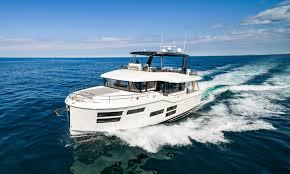Ship: (68, 45, 214, 135)
